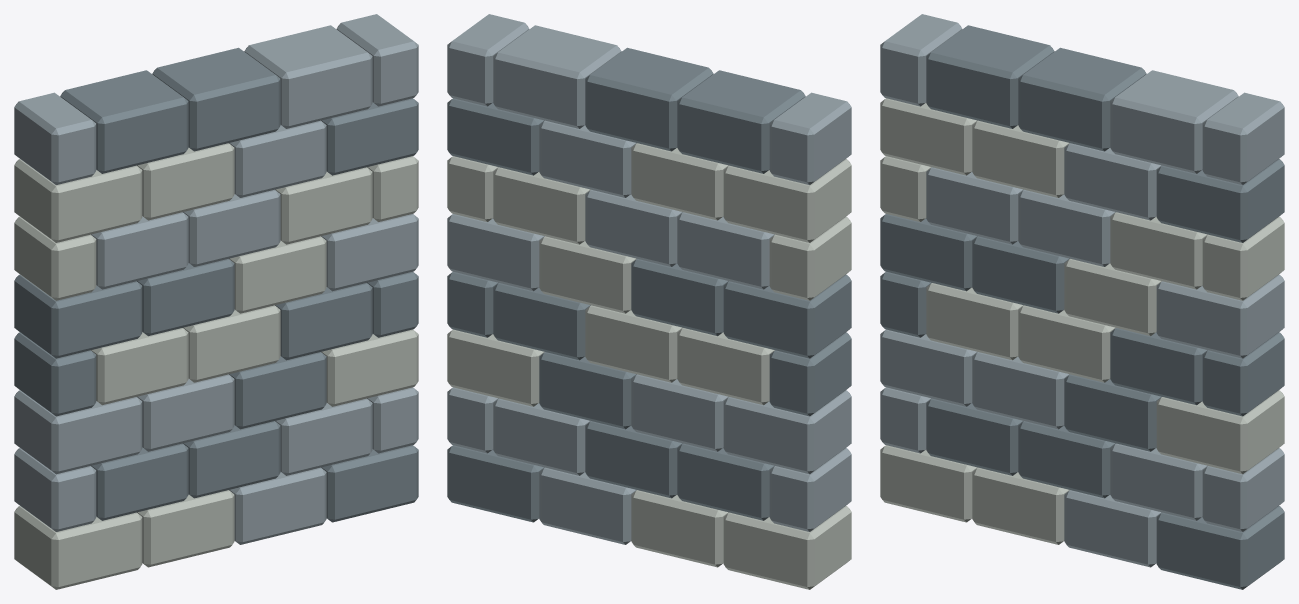
File: castle_wall_stone_2m.glb
3 renders of one model, left to right at view 1: azimuth 30°, elevation 25°; view 2: azimuth 150°, elevation 25°; view 3: azimuth 330°, elevation 25°, orthographic.
Parts seen in each view (by area): view 1: castle_wall_stone_2m; view 2: castle_wall_stone_2m; view 3: castle_wall_stone_2m.
Part boxes in pixels (box(x1,y1,x2,y2)): castle_wall_stone_2m: box(14, 14, 418, 589); castle_wall_stone_2m: box(447, 14, 851, 589); castle_wall_stone_2m: box(880, 14, 1284, 589).
Bounding box in the file's own units: 1.99 × 2.39 × 0.4.
